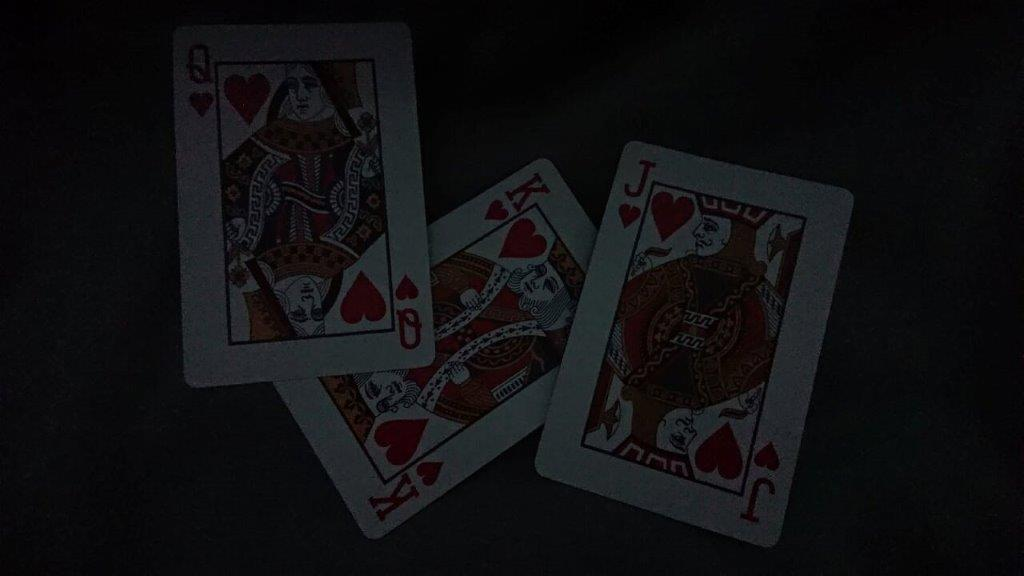JH: (611, 150, 661, 237)
KH: (476, 165, 556, 238)
QH: (177, 32, 227, 125)
